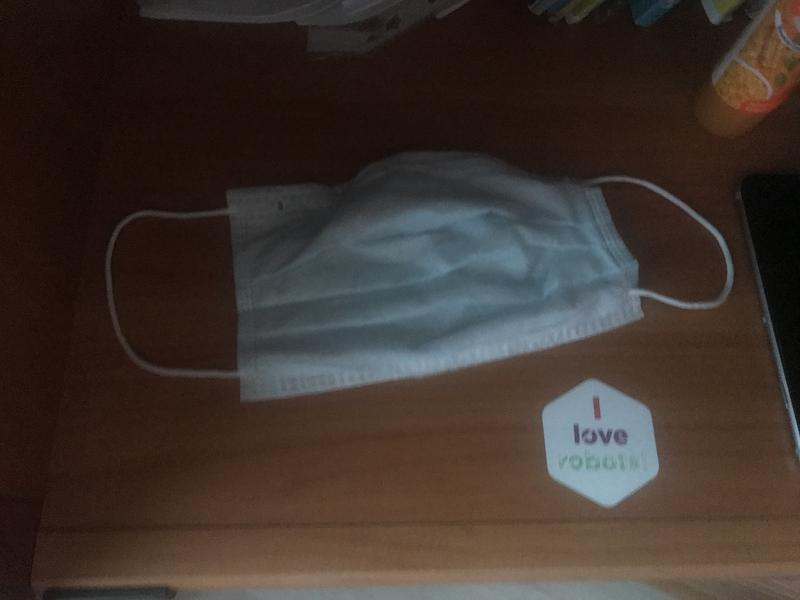medical_mask: (103, 152, 733, 378)
